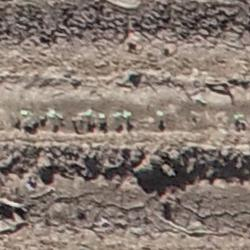cotton: (48, 110, 61, 119), (234, 114, 244, 122), (84, 111, 93, 119), (124, 111, 131, 121), (21, 109, 29, 116), (157, 110, 164, 117), (98, 113, 105, 120)
